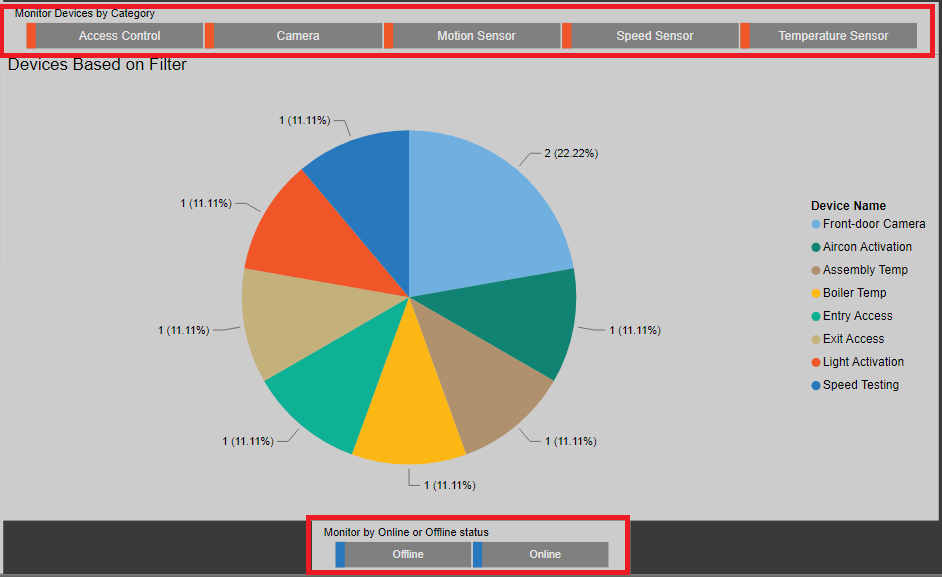

What the dashboard file says about the page in this screenshot:
{"tool":"powerbi","page":{"name":"Device Monitoring","canvas":[1280,720],"ordinal":1},"visuals":[{"type":"slicer","fields":{"Values":["Sub-Category1.Sub Category Name"]},"box":[206.7,91.3,1029.3,58.3],"z":0},{"type":"pieChart","title":"Devices Based on Filter","fields":{"Category":["Device1.Device Name"],"Y":["CountNonNull(Device1.Device Name)"]},"box":[206.7,149.6,1029.3,512.4],"z":1000},{"type":"slicer","fields":{"Values":["Device1.Device Status"]},"box":[546.5,662,349.7,58.3],"z":2000},{"type":"slicer","fields":{"Values":["Zone1.ZoneName"]},"box":[0,0,206.7,720.3],"z":3000},{"type":"textbox","box":[520.1,0,498.1,80.3],"z":4000}]}

Visuals, with their boxes on the page's 1280x720 design canvas (x1, y1, x2, y2). These are canvas units, not pixel positions in the 942x577 screenshot, which may show the page scaled, cropped or inside an application window:
slicer - Sub-Category1.Sub Category Name: <bbox>207, 91, 1236, 150</bbox>
"Devices Based on Filter" pieChart: <bbox>207, 150, 1236, 662</bbox>
slicer - Device1.Device Status: <bbox>546, 662, 896, 720</bbox>
slicer - Zone1.ZoneName: <bbox>0, 0, 207, 720</bbox>
textbox: <bbox>520, 0, 1018, 80</bbox>
